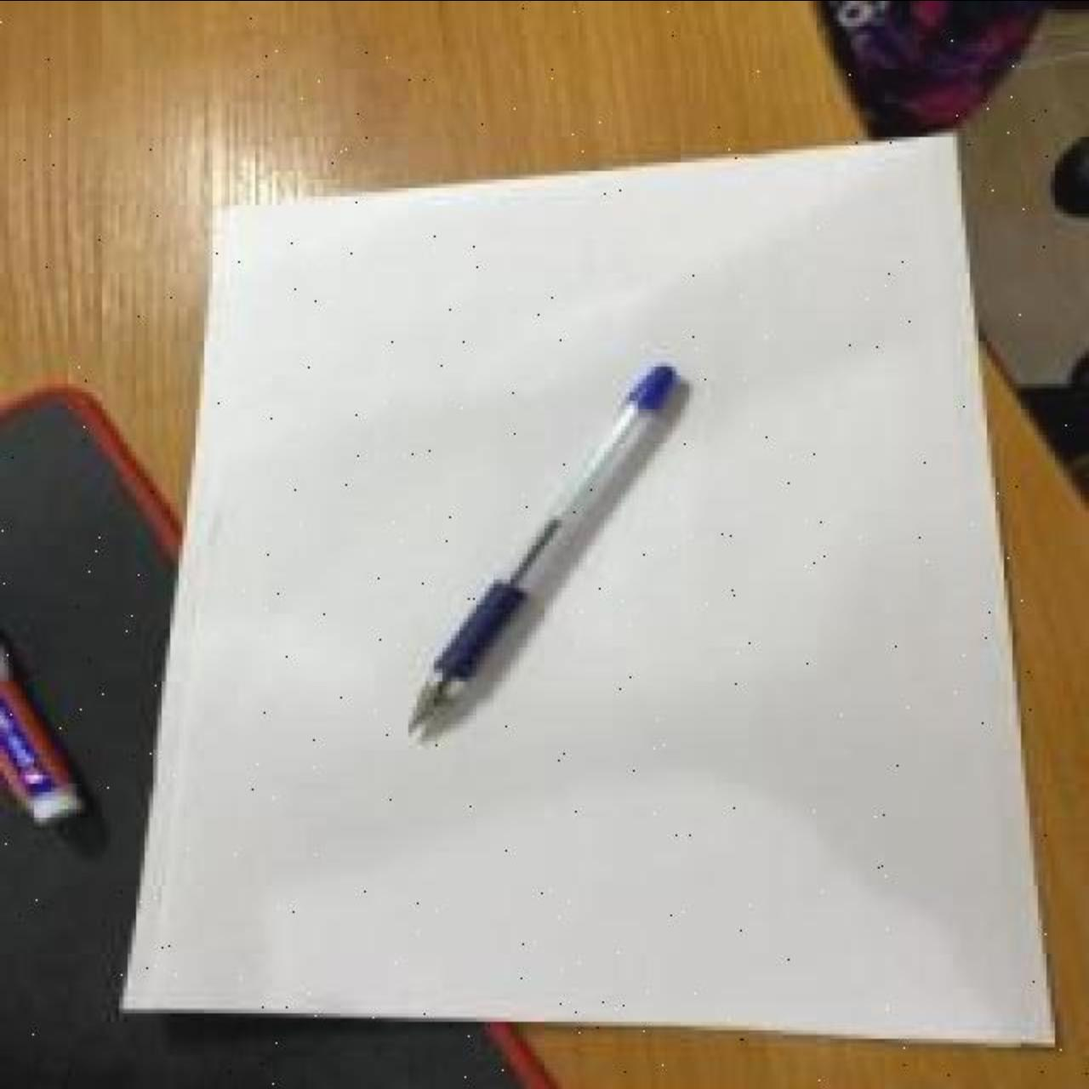pen: (400, 366, 681, 737)
